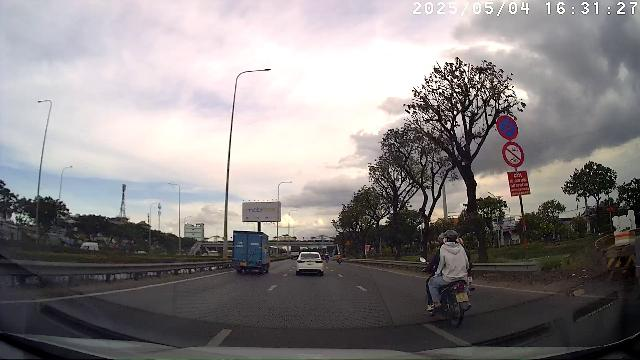130-cam-dung-va-do-xe: (497, 116, 519, 140)
